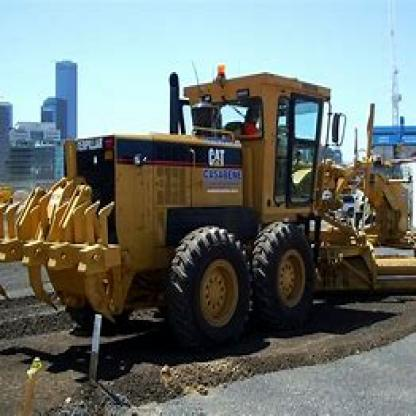bull_dozer/loader/grader: (3, 39, 414, 342)
